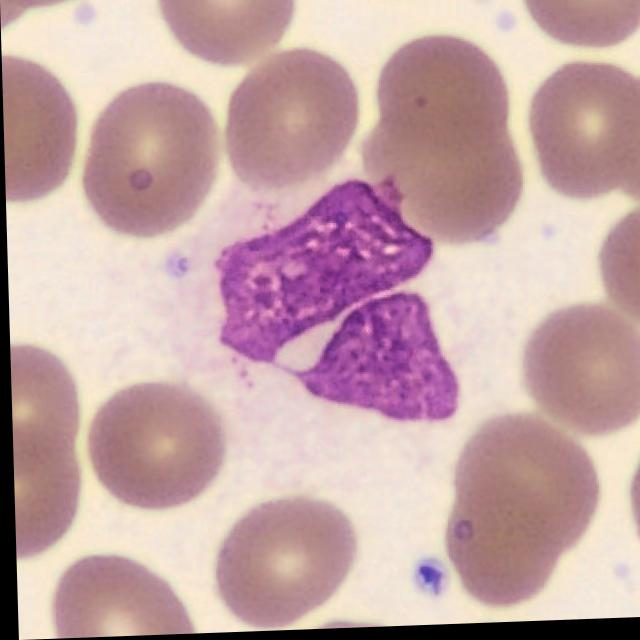Restos celulares: (214, 182, 454, 423)
